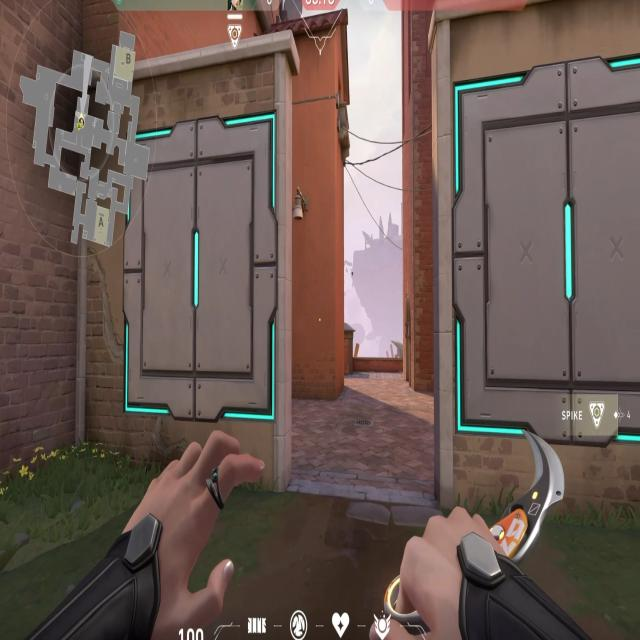Mid_Wall: (434, 6, 640, 535), (80, 31, 296, 491)
